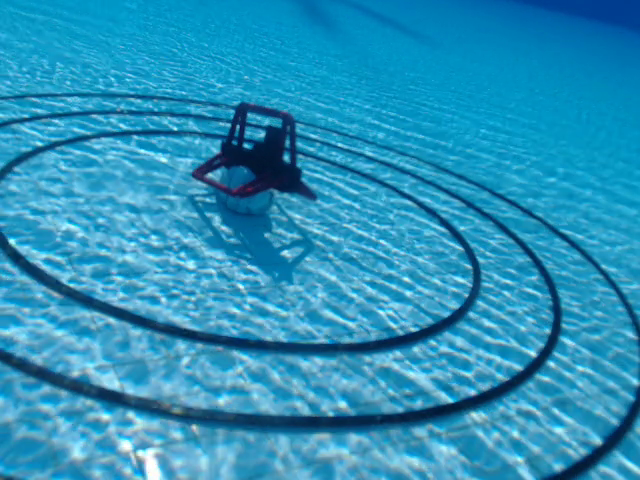submarine: (187, 99, 321, 205)
